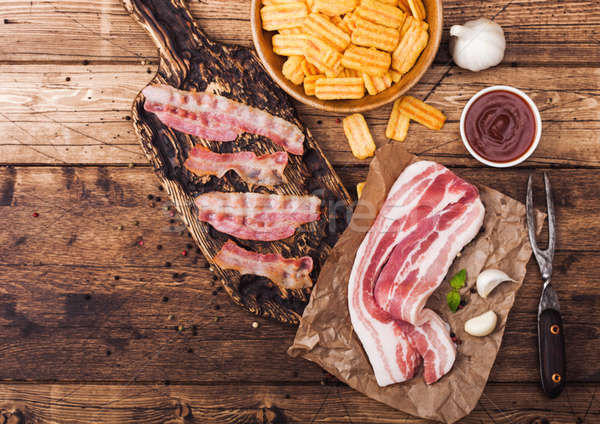bacon: (146, 86, 326, 294), (361, 169, 471, 387)
